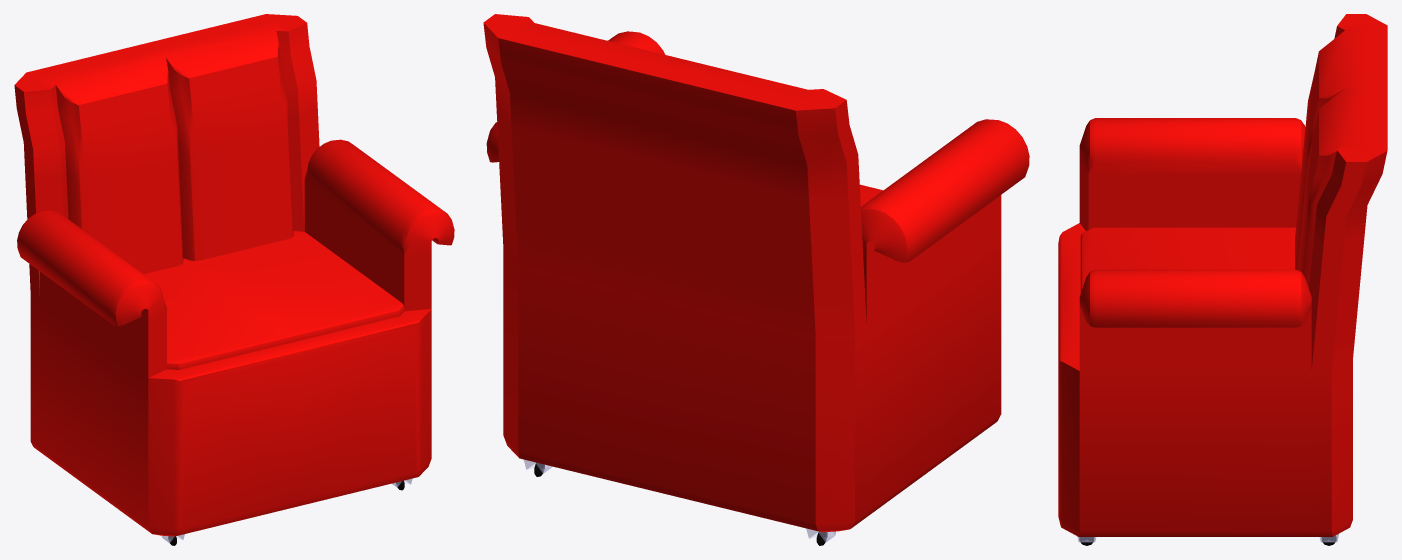
The model's file is chair13.fbx.
The picture shows the model from 3 angles, left to right: view 1: azimuth 30°, elevation 25°; view 2: azimuth 150°, elevation 25°; view 3: azimuth 270°, elevation 25°; orthographic projection. The views are drawn at different scales.
Visible parts, largest first — view 1: Chair13; view 2: Chair13; view 3: Chair13.
Part boxes in pixels (box(x1,y1,x2,y2)): Chair13: box(14, 14, 454, 545); Chair13: box(483, 14, 1029, 545); Chair13: box(1058, 14, 1387, 545).
Size of the model in its own units: 97.56 by 101 by 75.79.
